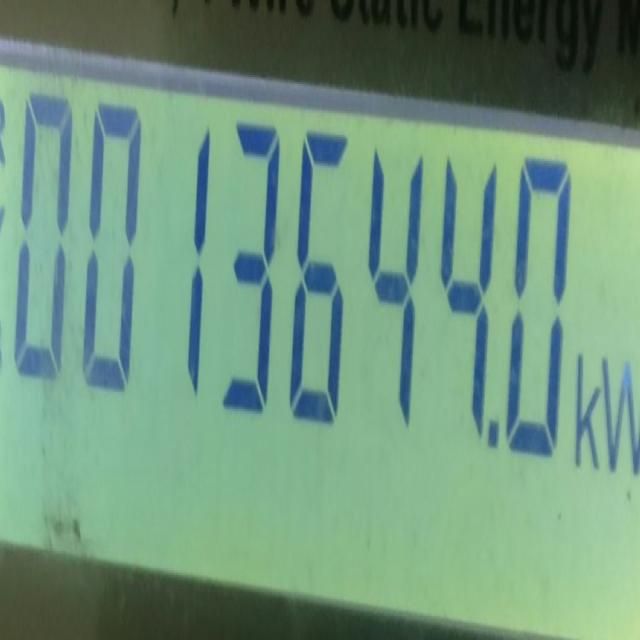.: (482, 407, 503, 466)
0: (504, 147, 571, 466), (15, 82, 76, 384), (82, 99, 139, 408)
1: (174, 122, 221, 400)
3: (220, 111, 283, 429)
4: (361, 132, 435, 448), (437, 154, 501, 453)
6: (282, 90, 349, 435)
